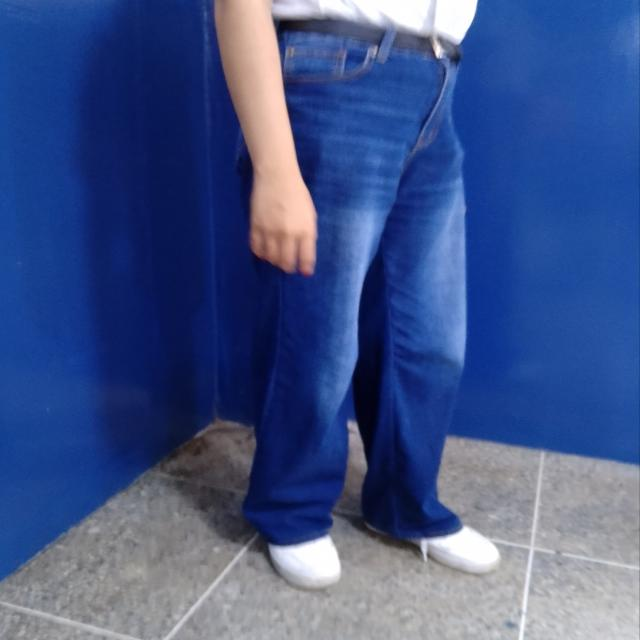pantalon_oscuro: (233, 29, 468, 547)
